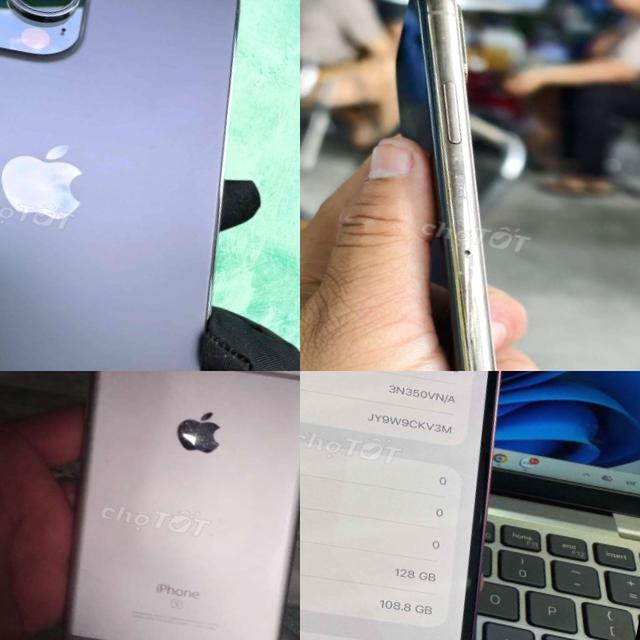gen_14: (0, 0, 298, 371)
gen_16: (300, 371, 569, 640)
gen_6: (25, 371, 300, 640)
gen_x_xs: (396, 0, 498, 371)
scratch: (416, 140, 498, 270), (429, 22, 458, 58), (445, 261, 480, 290), (403, 100, 422, 124)
